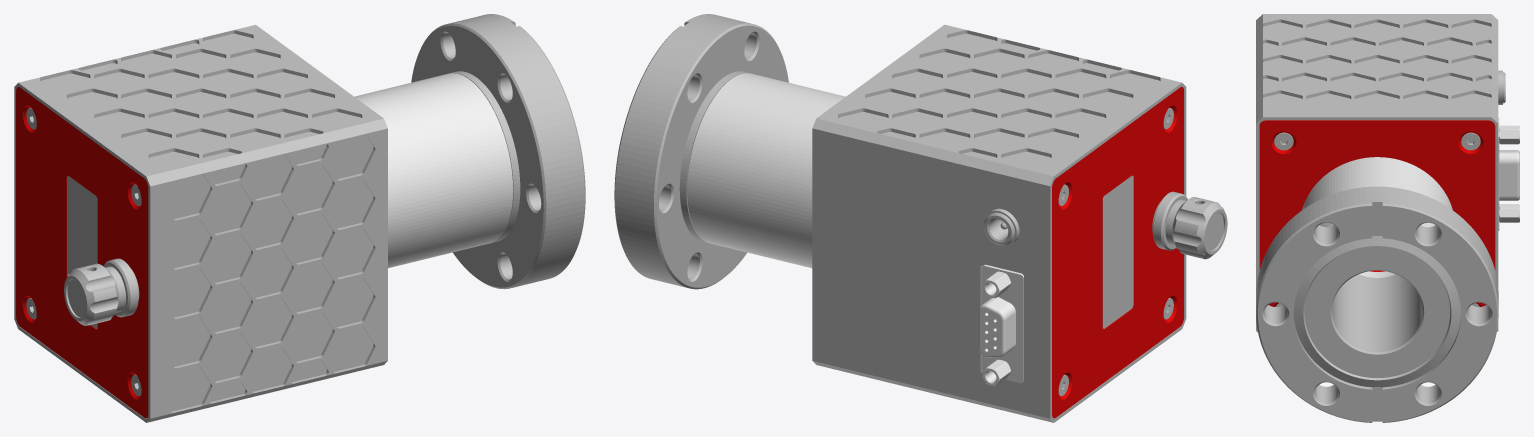
Rendered from sensor-magnetron.glb.
The picture shows the model from 3 angles, left to right: view 1: azimuth 30°, elevation 25°; view 2: azimuth 150°, elevation 25°; view 3: azimuth 270°, elevation 25°; orthographic projection. The views are drawn at different scales.
Visible parts, largest first — view 1: Node2, Node1, Node5, Node6, Node4, Node3; view 2: Node2, Node4, Node5, Node6, Node3; view 3: Node6, Node2, Node5, Node4, Node3.
Part boxes in pixels (<box>): Node2: <box>14,24,387,422</box>; Node1: <box>162,134,375,412</box>; Node5: <box>16,87,148,418</box>; Node6: <box>411,14,585,289</box>; Node4: <box>354,73,513,268</box>; Node3: <box>64,175,250,328</box>; Node2: <box>812,24,1186,422</box>; Node4: <box>687,73,1023,386</box>; Node5: <box>1052,87,1183,418</box>; Node6: <box>614,14,788,289</box>; Node3: <box>983,175,1227,328</box>; Node6: <box>1256,186,1498,422</box>; Node2: <box>1256,14,1498,332</box>; Node5: <box>1259,120,1495,306</box>; Node4: <box>1302,117,1519,277</box>; Node3: <box>1498,70,1505,104</box>.
Size of the model in its own units: 145 by 70.05 by 76.2.
